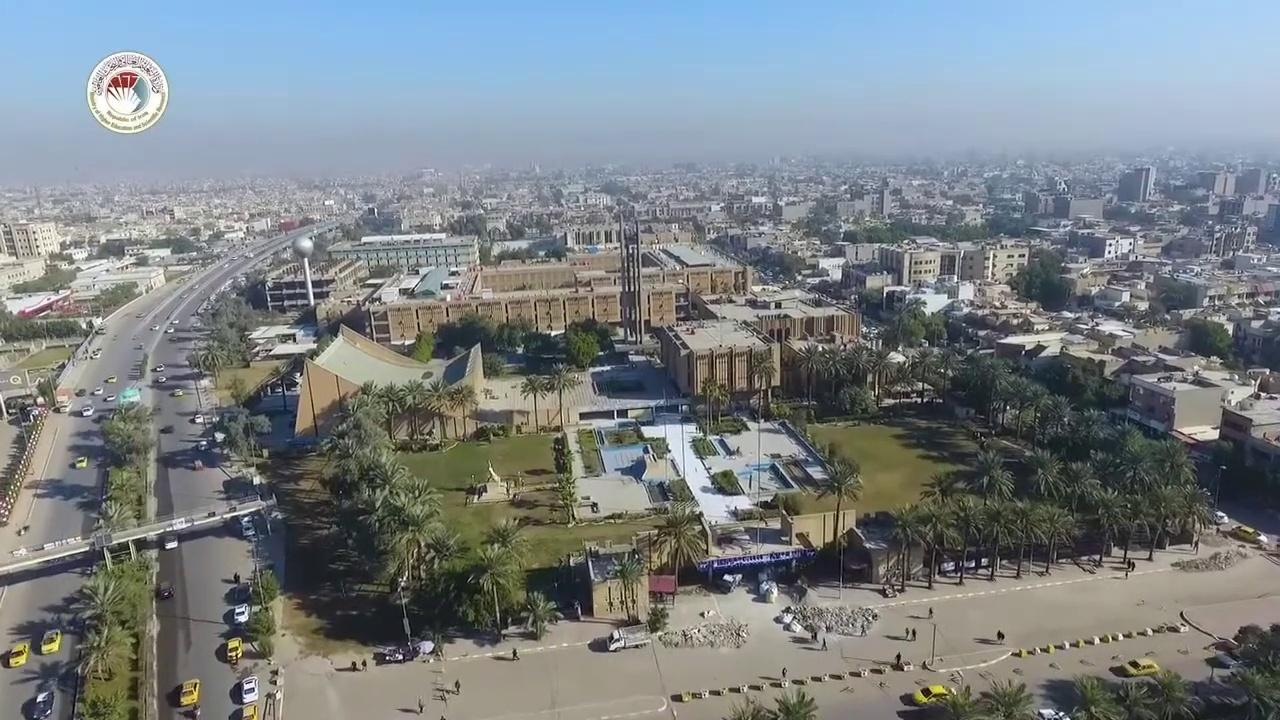car: (912, 684, 955, 705), (29, 690, 54, 719), (1122, 657, 1160, 676), (8, 640, 31, 667), (40, 629, 61, 654), (1036, 708, 1070, 719), (158, 585, 174, 600), (1213, 510, 1228, 525), (163, 536, 178, 550), (80, 403, 94, 417), (73, 456, 87, 469), (196, 439, 208, 450), (103, 375, 117, 383), (103, 393, 116, 401), (152, 363, 164, 371), (172, 388, 183, 396), (92, 387, 102, 395), (157, 376, 166, 383), (150, 324, 159, 330), (136, 312, 144, 318)
person: (510, 647, 519, 661), (360, 657, 367, 671), (453, 679, 459, 694), (351, 660, 356, 671)
tree: (791, 299, 1216, 580), (887, 414, 1214, 587), (62, 399, 160, 718), (68, 564, 138, 681), (370, 474, 443, 584), (410, 523, 467, 653), (99, 400, 157, 524), (746, 344, 775, 550), (466, 542, 525, 641), (648, 498, 707, 591), (918, 467, 966, 577), (0, 411, 46, 525), (1225, 621, 1279, 718), (814, 453, 863, 551), (960, 353, 1012, 428), (974, 500, 1017, 581), (944, 493, 981, 584), (244, 565, 279, 661), (1029, 502, 1075, 575), (99, 400, 154, 461), (965, 440, 1015, 506), (972, 669, 1036, 719), (889, 501, 924, 591), (604, 551, 645, 624), (548, 431, 580, 524), (223, 408, 272, 468), (478, 515, 532, 564), (422, 376, 459, 445), (1069, 671, 1122, 719), (544, 361, 579, 431), (1020, 445, 1064, 500), (374, 379, 407, 444), (747, 345, 775, 418), (795, 340, 826, 405), (522, 589, 559, 640), (519, 372, 549, 433), (908, 345, 939, 403), (401, 378, 427, 441), (448, 382, 476, 440), (770, 687, 818, 719), (565, 326, 599, 370), (552, 472, 580, 524), (699, 375, 719, 436), (720, 694, 768, 719), (251, 566, 278, 610), (550, 431, 574, 474), (712, 380, 731, 425), (410, 329, 435, 363), (226, 374, 248, 408), (646, 602, 669, 633)
